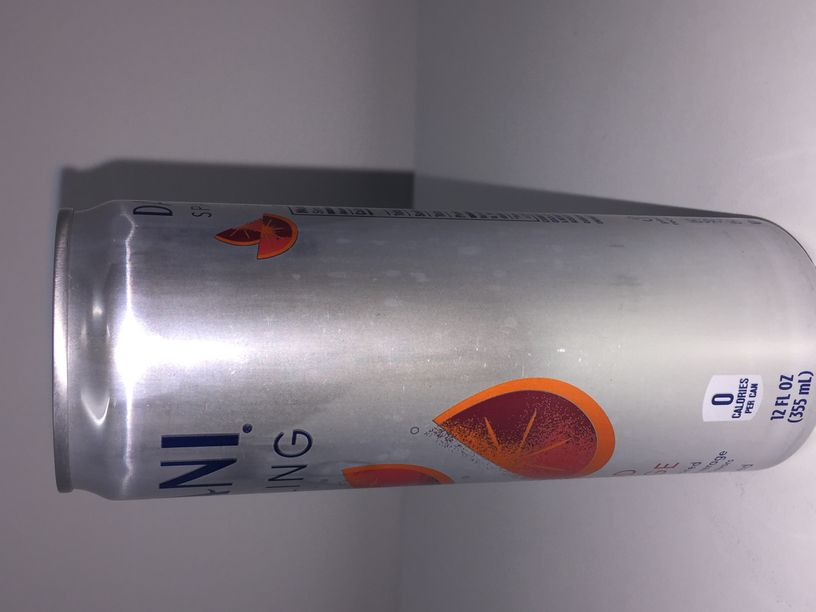blood_orange: (49, 198, 816, 502)
